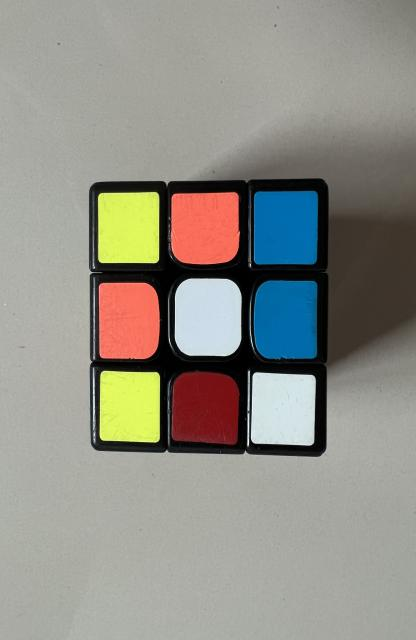Blue: (254, 280, 317, 359), (254, 191, 317, 264)
Orange: (171, 192, 239, 264), (99, 282, 159, 359)
Red: (171, 371, 239, 445)
White: (174, 279, 242, 356), (251, 372, 316, 446)
Yellow: (98, 192, 159, 264), (100, 370, 160, 442)
